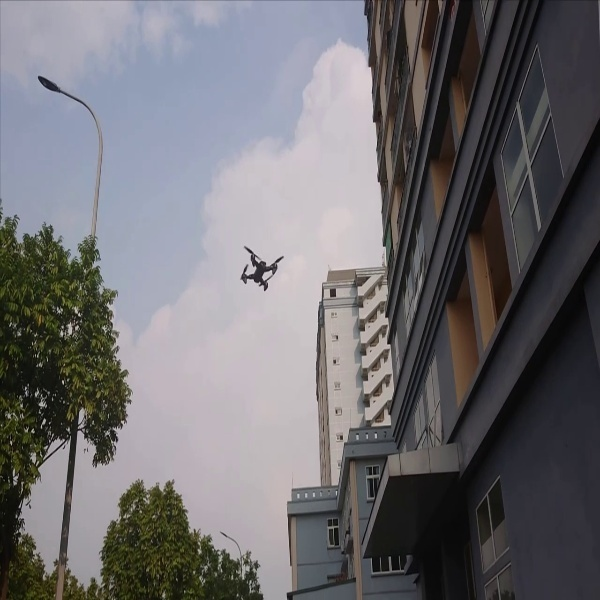drone: (232, 237, 293, 297)
